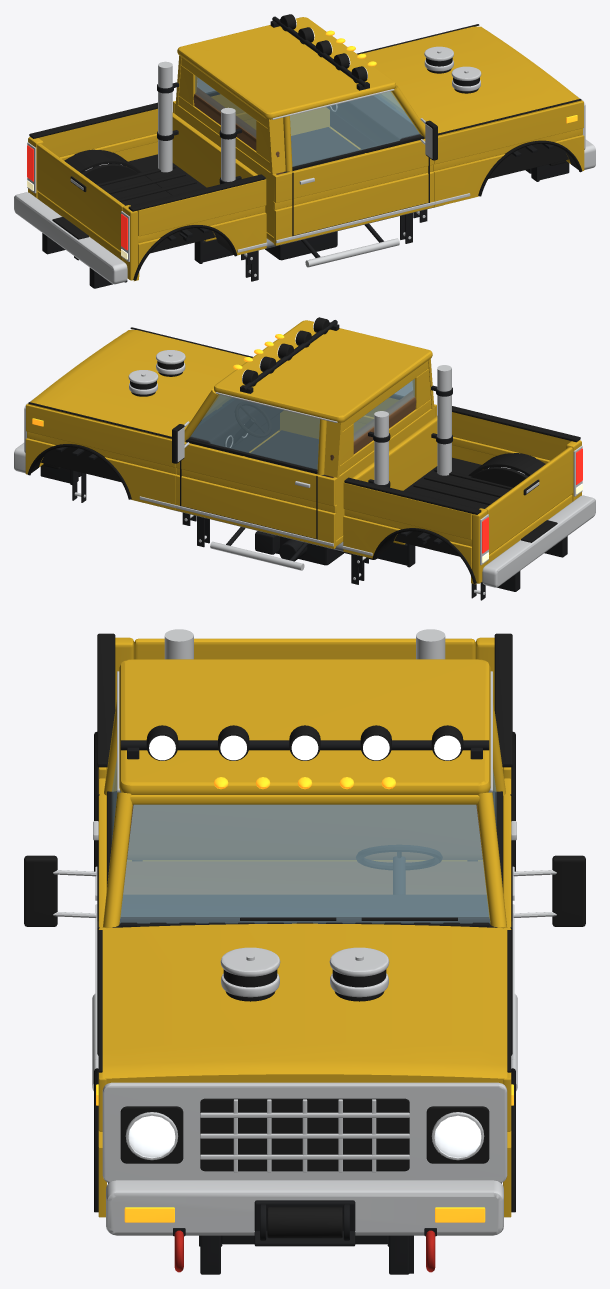
The model's file is truck.glb.
The picture shows the model from 3 angles, top to bottom: view 1: azimuth 30°, elevation 25°; view 2: azimuth 150°, elevation 25°; view 3: azimuth 270°, elevation 25°; orthographic projection. The views are drawn at different scales.
Parts seen in each view (by area): view 1: truck; view 2: truck, steer; view 3: truck, amber.L, head.L, head.R, steer, amber.R.
Part boxes in pixels (<box>): truck: <box>14,14,595,288</box>; truck: <box>14,317,595,600</box>; steer: <box>235,402,271,437</box>; truck: <box>24,629,585,1274</box>; amber.L: <box>214,777,513,1222</box>; head.L: <box>434,1115,481,1158</box>; head.R: <box>128,1115,175,1158</box>; steer: <box>356,845,442,869</box>; amber.R: <box>96,1084,174,1222</box>.
Bounding box in the file's own units: 5.51 × 2.1 × 2.68.
